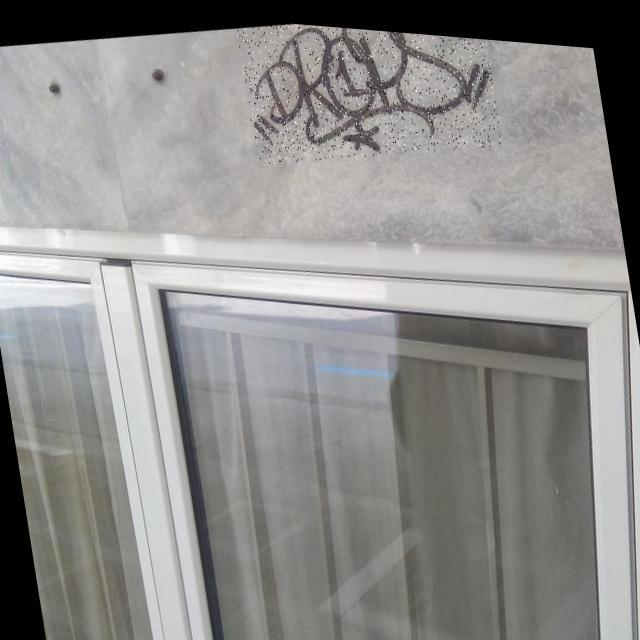-: (236, 15, 502, 175)
